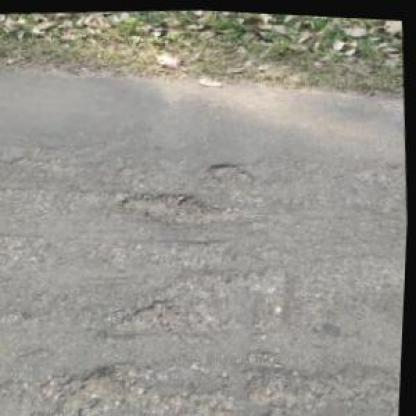pothole: (121, 184, 230, 228), (75, 358, 147, 414), (118, 293, 193, 334), (245, 368, 300, 404), (208, 157, 257, 186)
